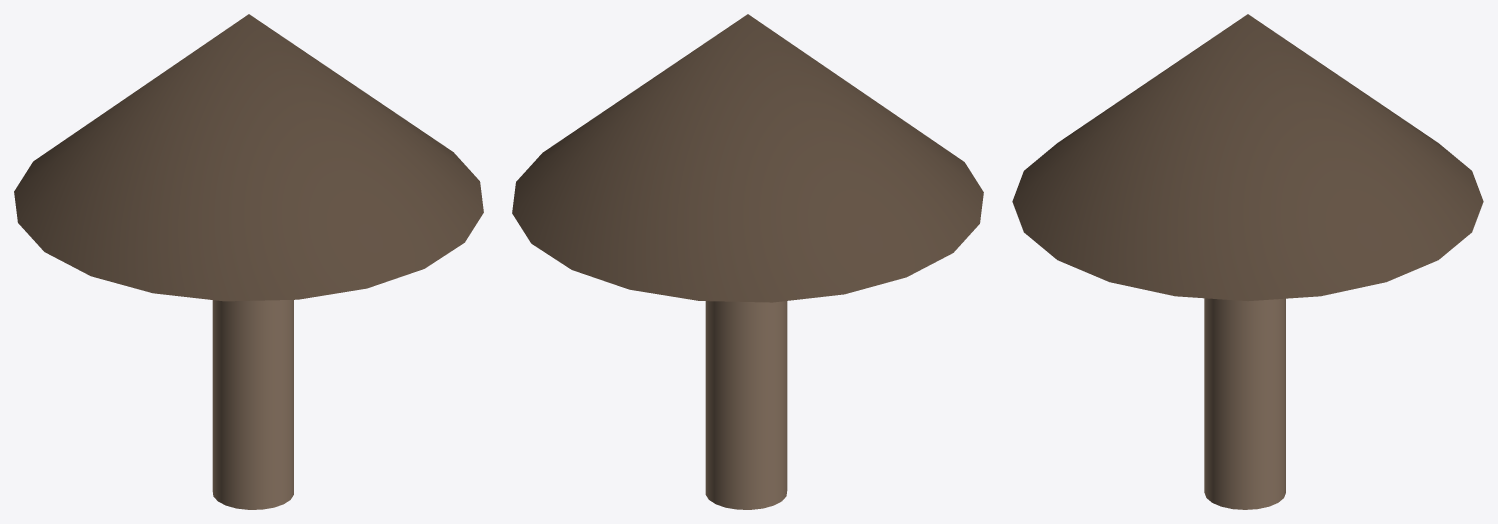
Rendered from Mushroom 1.fbx.
3 renders of one model, left to right at view 1: azimuth 30°, elevation 25°; view 2: azimuth 150°, elevation 25°; view 3: azimuth 270°, elevation 25°, orthographic.
Parts seen in each view (by area): view 1: pCylinder1; view 2: pCylinder1; view 3: pCylinder1.
Part boxes in pixels (box(x1,y1,x2,y2)): pCylinder1: box(14, 14, 483, 509); pCylinder1: box(512, 14, 983, 509); pCylinder1: box(1012, 14, 1483, 509).
Bounding box in the file's own units: 1206 × 1347 × 1206.
